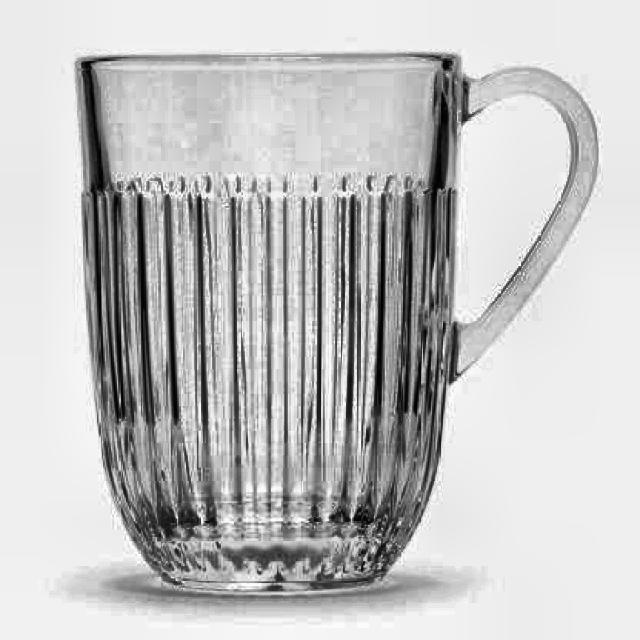Mug: (70, 48, 599, 597)
